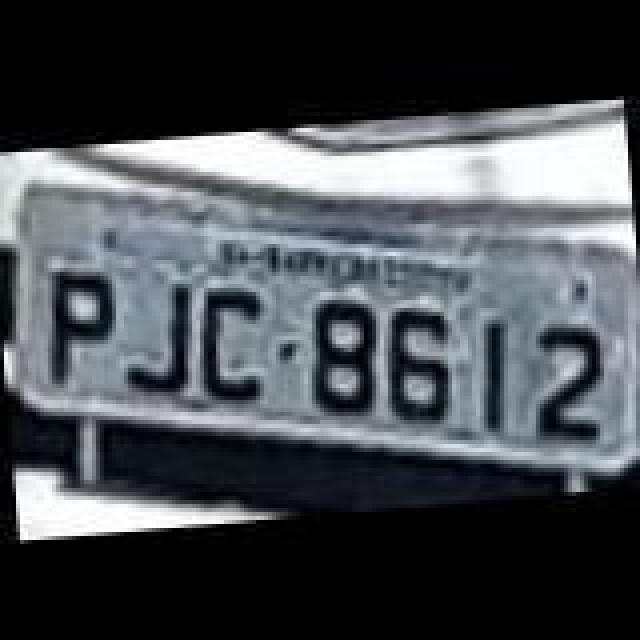1: (466, 312, 518, 432)
2: (526, 318, 610, 450)
6: (372, 296, 460, 432)
8: (300, 284, 388, 420)
C: (190, 282, 274, 406)
J: (112, 274, 200, 398)
P: (38, 264, 122, 392)
